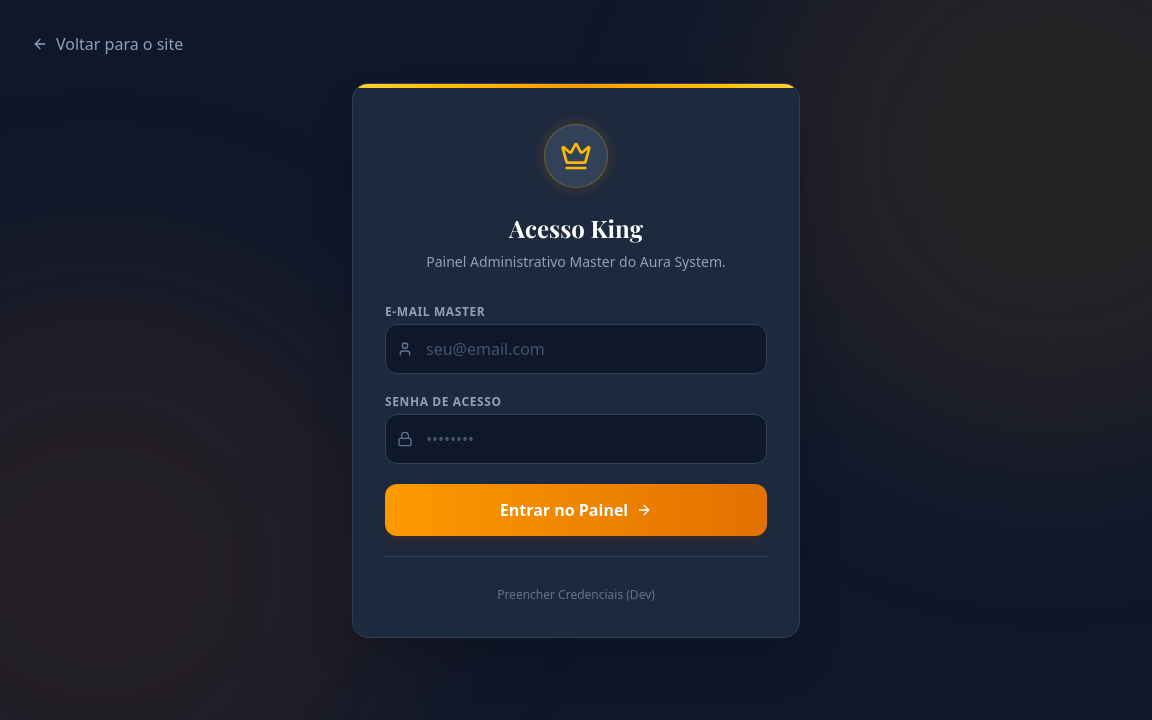
pages/KingLogin › exceção lançada por login() exibe mensagem de erro genérica
Type "king@aura.system" into the field with placeholder "seu@email.com".
click(576, 348); type("king@aura.system")  # box [385, 324, 767, 374]
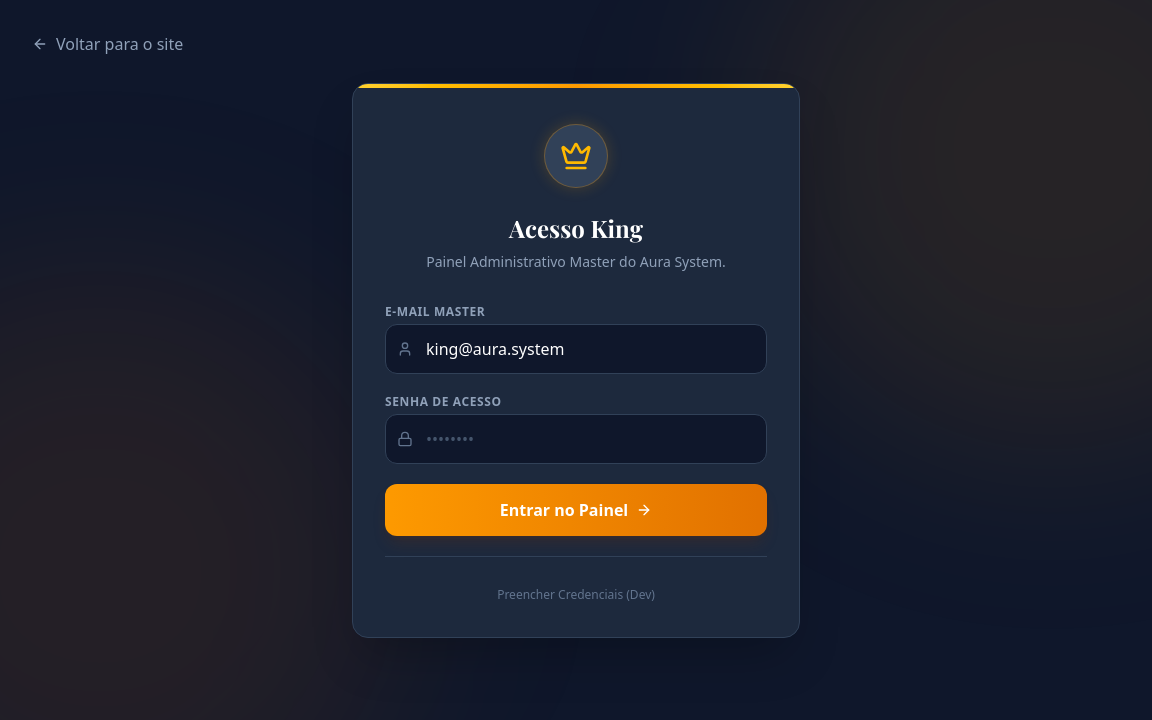
Type "admin" into the password field with placeholder "••••••••".
click(576, 438); type("admin")  # box [385, 414, 767, 464]
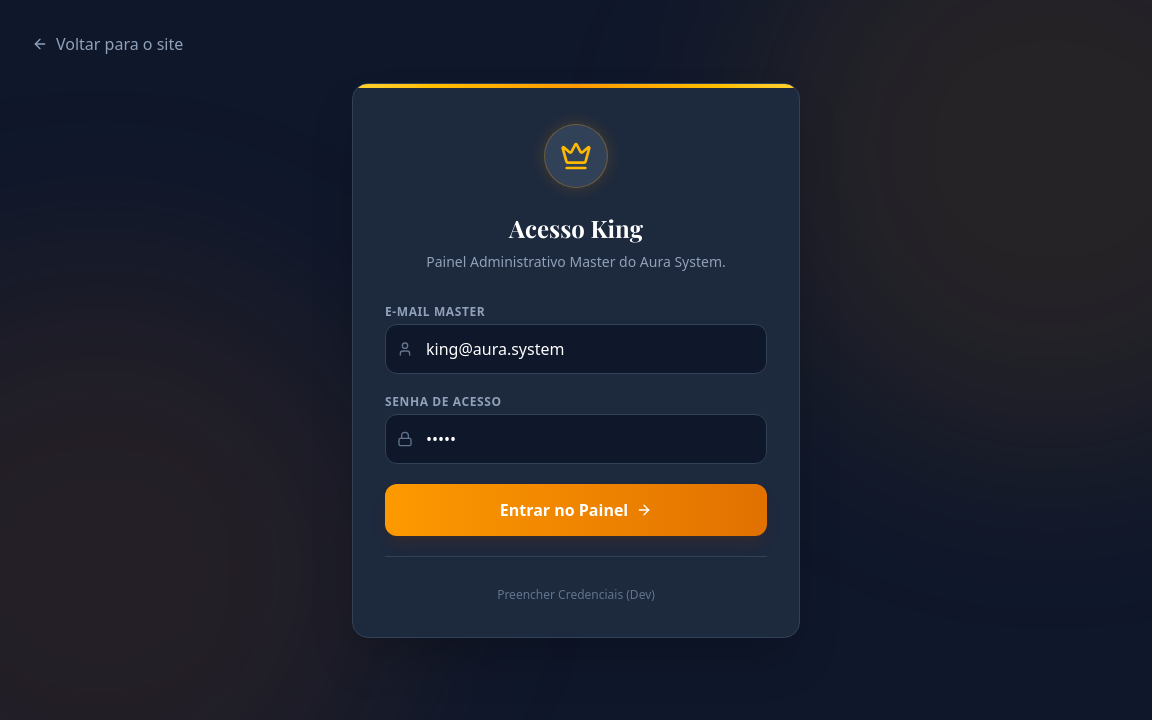
Click the button "Entrar no Painel".
click(576, 510)  # box [385, 484, 767, 536]
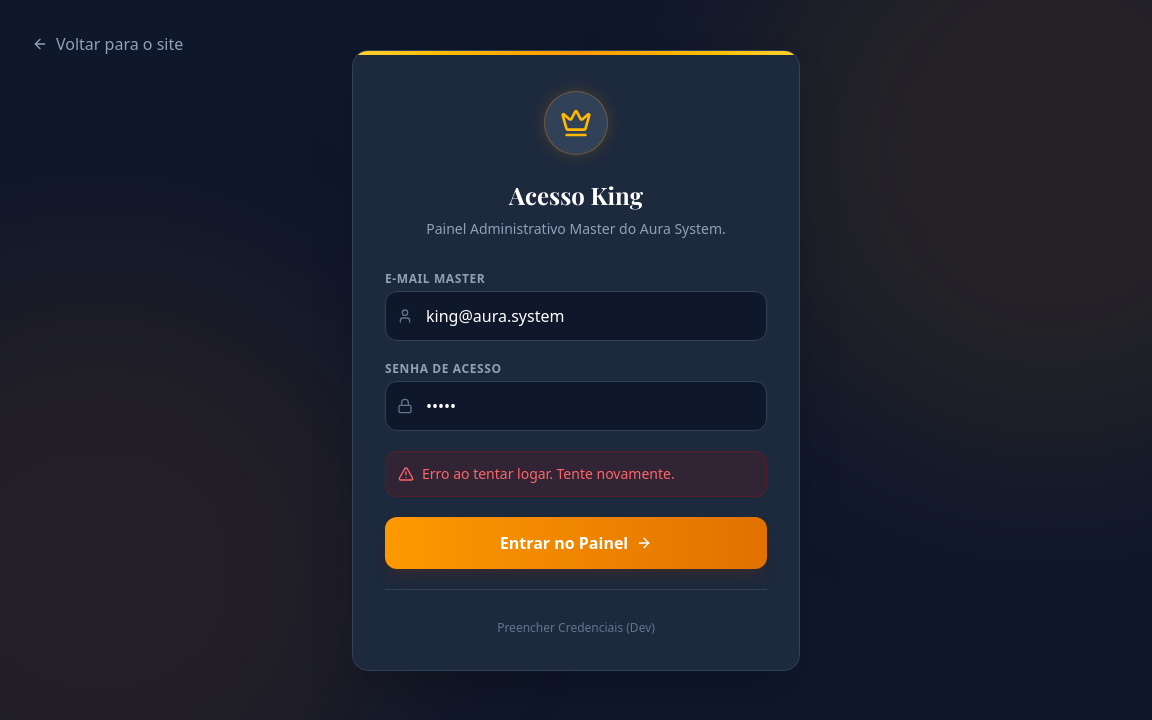
Result: the text "Erro ao tentar logar. Tente novamente." is shown at [385, 450, 767, 496]
